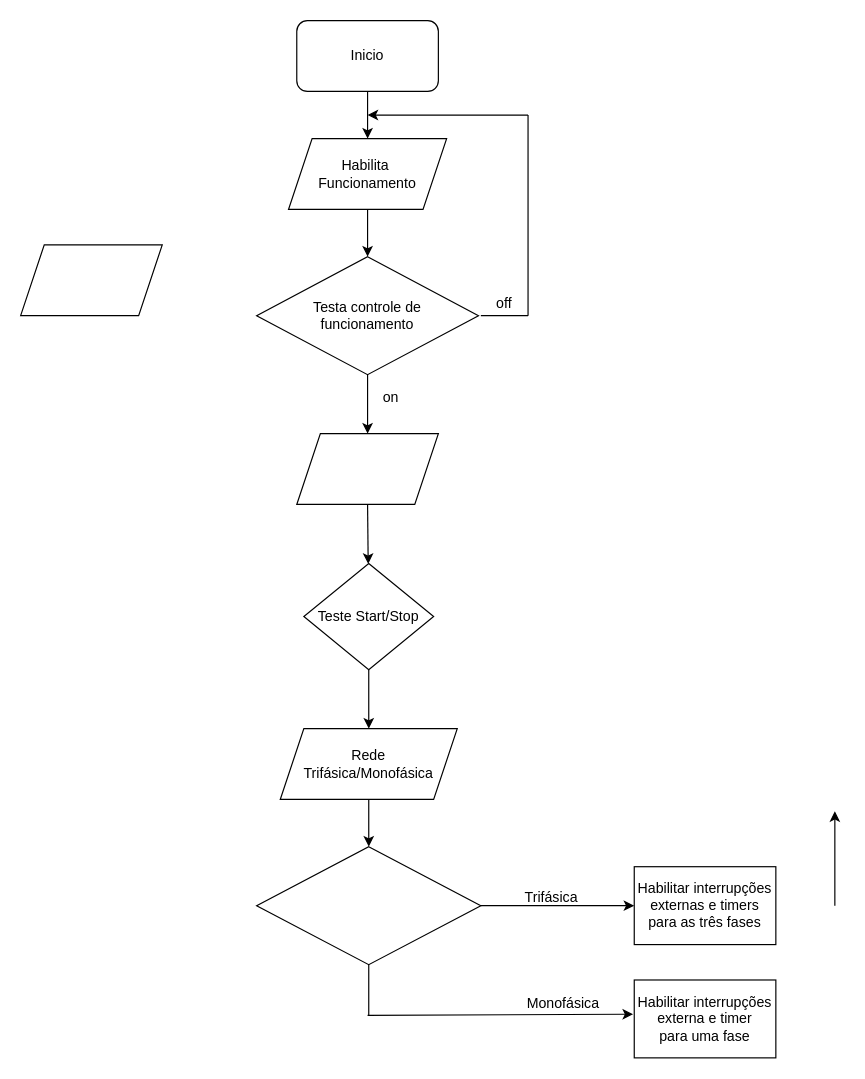
Image size: 865x1079. Some labels were removed from this diagram. Each missing label, with the centre of its shape:
Input Tempo: the point at 90,280
Start/Stop: the point at 367,468
Testa Rede Elétrica: the point at 368,905
